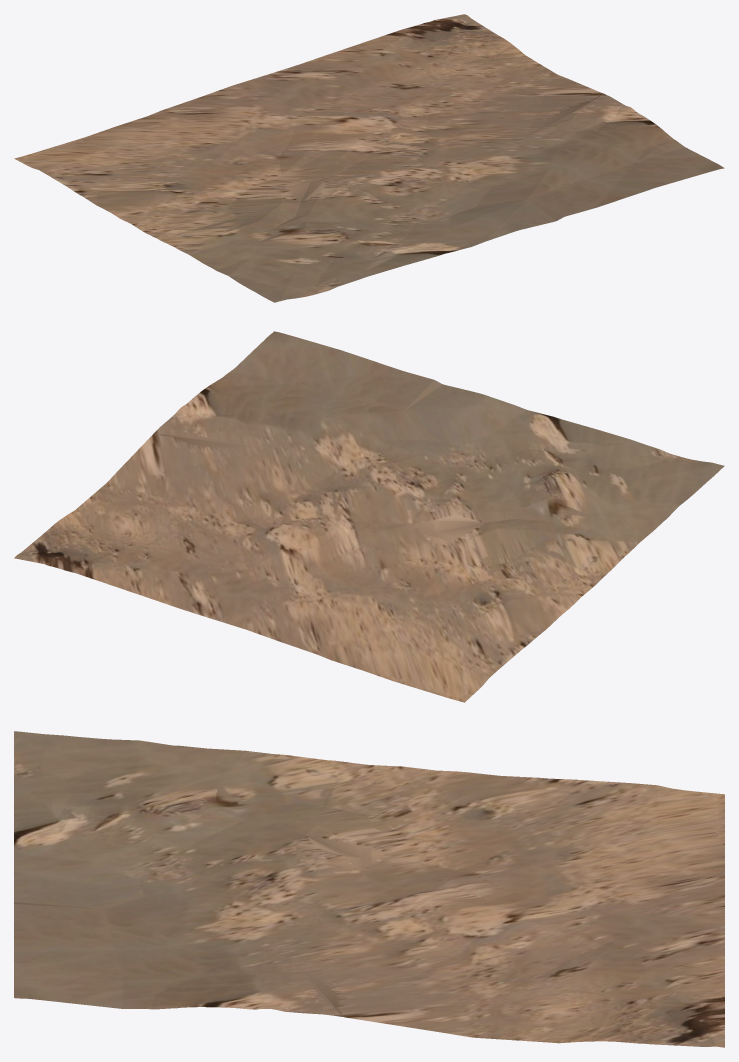
3 renders of one model, top to bottom at view 1: azimuth 30°, elevation 25°; view 2: azimuth 150°, elevation 25°; view 3: azimuth 270°, elevation 25°, orthographic. The views are drawn at different scales.
Size of the model in its own units: 4.18 by 0.63 by 4.18.
2 materials, 2 textured.
